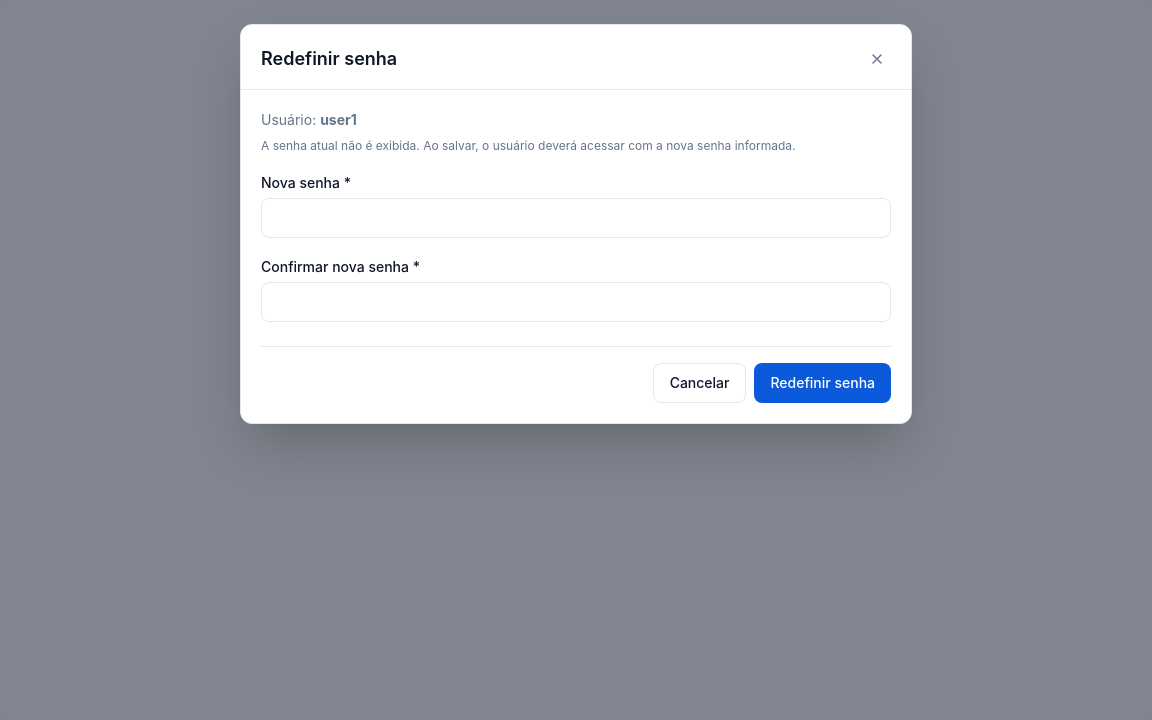
it: RedefinirSenhaColaboradorModal › valida confirmação divergente
Type "Nova123!" into the 1st password field. click: {"x": 576, "y": 218}
box: top-left (261, 198), bottom-right (891, 238)
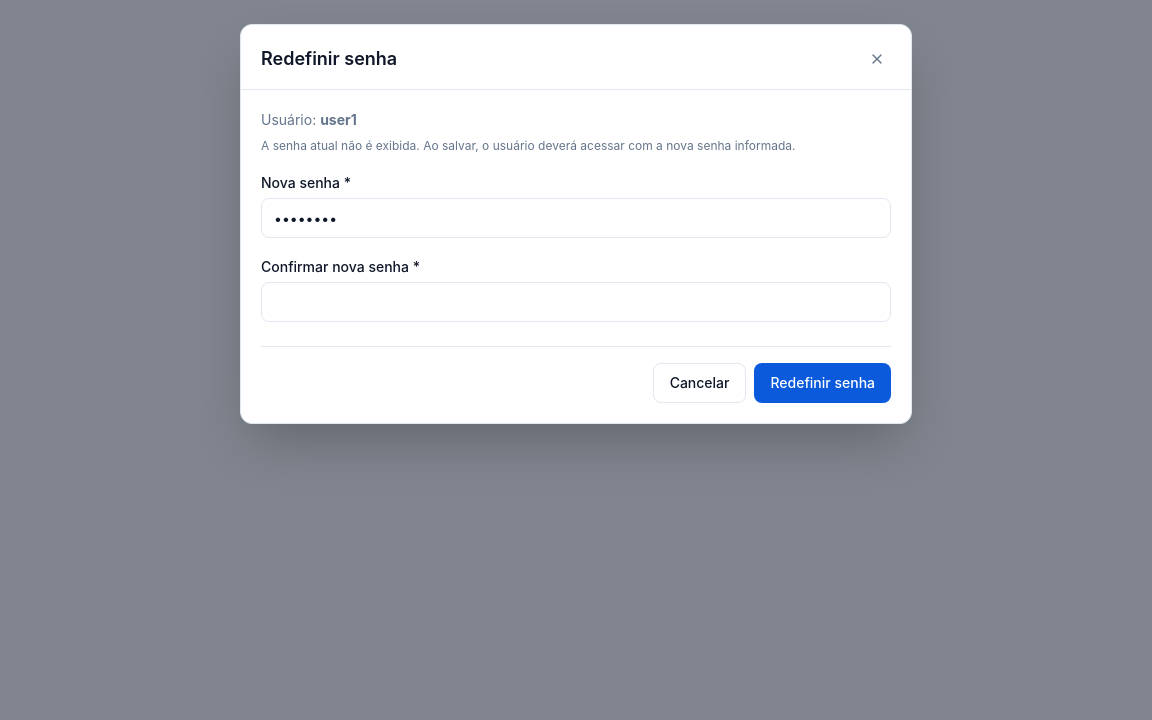
Type "Diferente123!" into the password field below "Confirmar nova senha *". click: {"x": 576, "y": 302}
box: top-left (261, 282), bottom-right (891, 322)
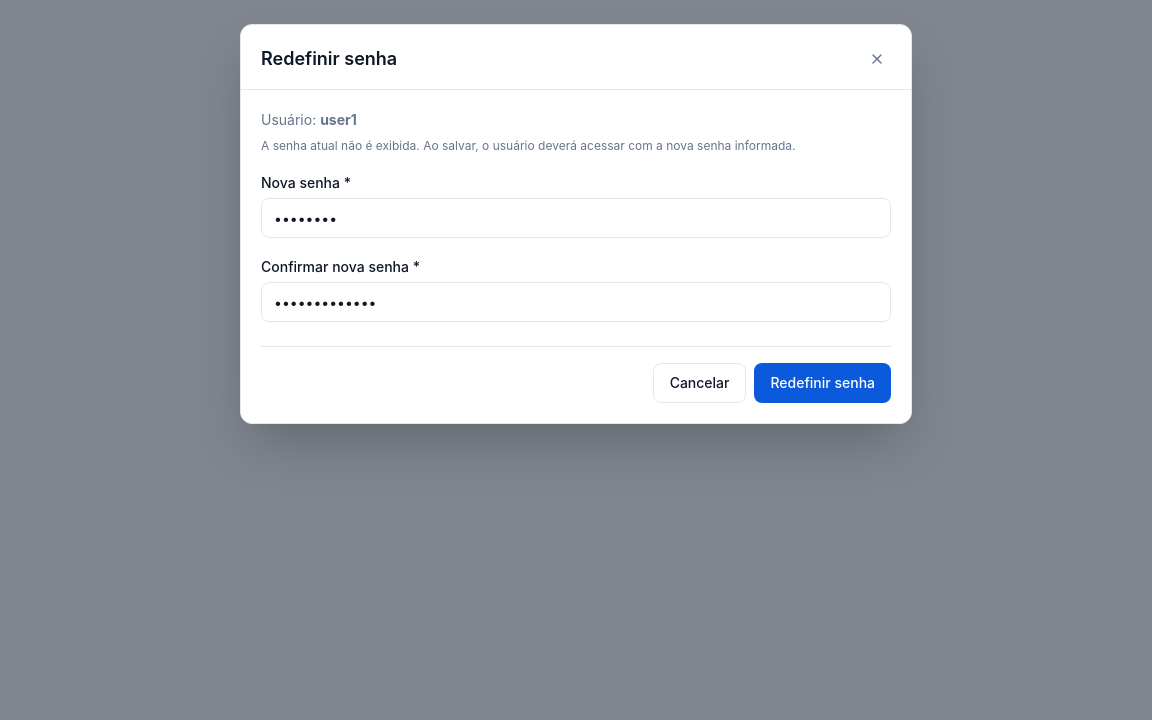
Click the button "Redefinir senha". click: {"x": 823, "y": 383}
box: top-left (754, 363), bottom-right (891, 403)
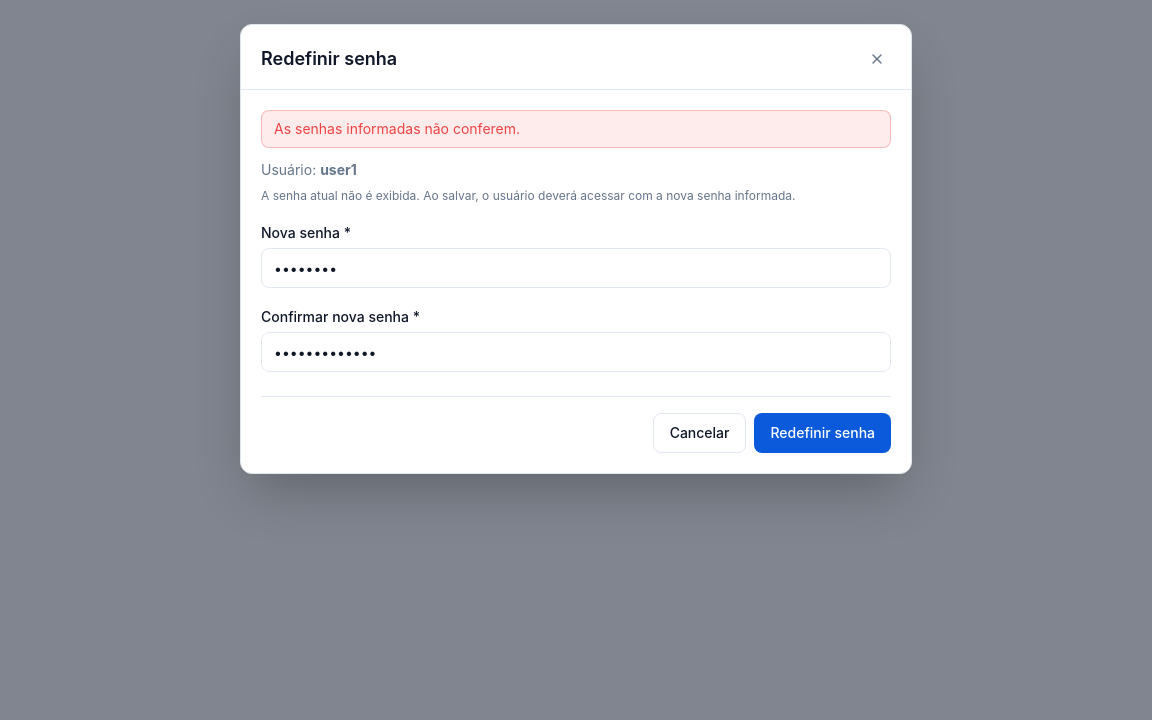
Expected: the text "As senhas informadas não conferem." is shown, top-left (261, 110), bottom-right (891, 148)
